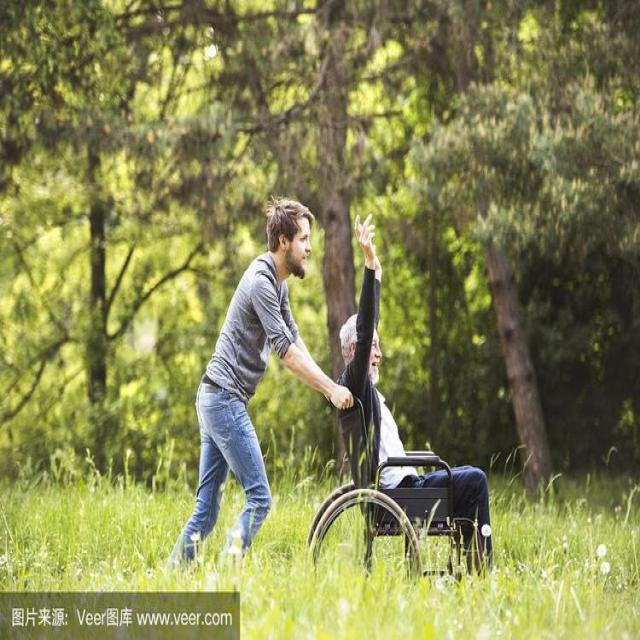wheelchairs: (300, 380, 506, 602)
